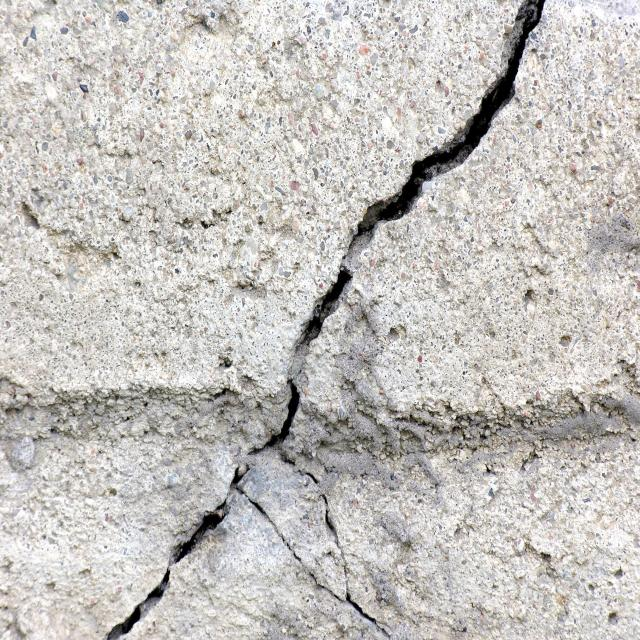Wall_Cracks: (85, 3, 568, 640)
